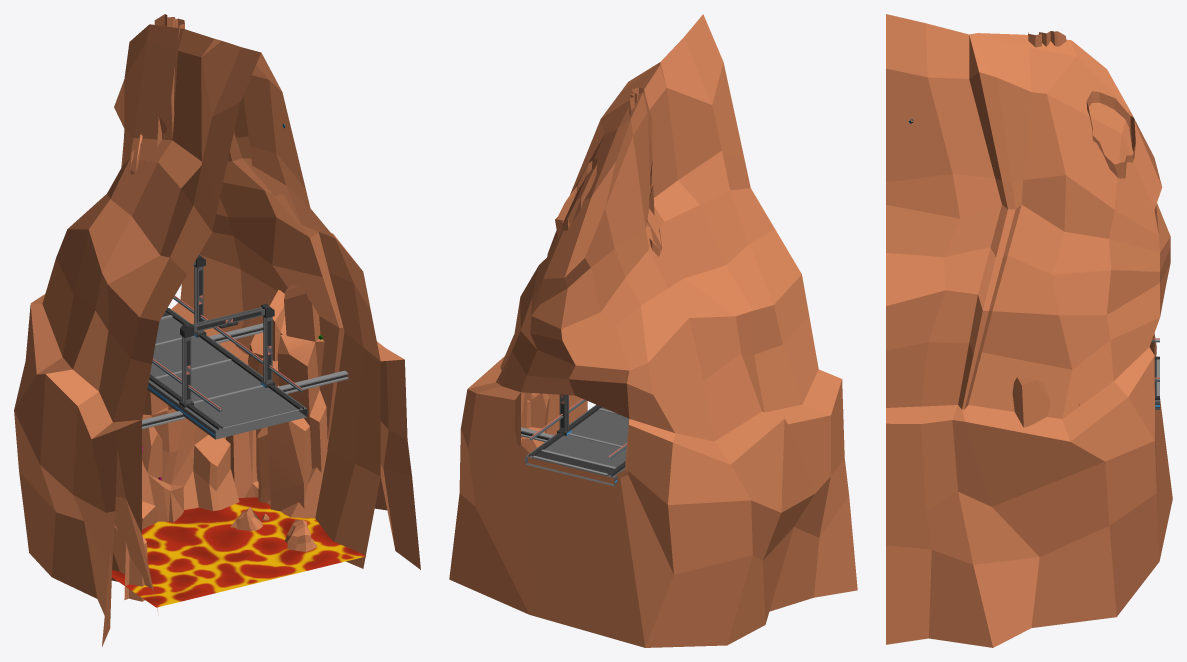
File: Cavern_Door_Tunnel.fbx
3 views of the same model, side by side, from view 1: azimuth 30°, elevation 25°; view 2: azimuth 150°, elevation 25°; view 3: azimuth 270°, elevation 25° (orthographic). The views are drawn at different scales.
Parts seen in each view (by area): view 1: Cavern_Door_Tunnel, Cavern_Door_Tunnel_W, Cavern_Door_Tunnel_E, Cavern_Door_Tunnel_Walkway; view 2: Cavern_Door_Tunnel, Cavern_Door_Tunnel_W, Cavern_Door_Tunnel_E, Cavern_Door_Tunnel_Walkway; view 3: Cavern_Door_Tunnel_E, Cavern_Door_Tunnel, Cavern_Door_Tunnel_W.
Boxes of the visible parts, x1,y1,x2,y2 form: Cavern_Door_Tunnel: (14, 255, 420, 646); Cavern_Door_Tunnel_W: (42, 14, 261, 422); Cavern_Door_Tunnel_E: (199, 53, 380, 360); Cavern_Door_Tunnel_Walkway: (142, 255, 348, 439); Cavern_Door_Tunnel: (449, 334, 857, 647); Cavern_Door_Tunnel_W: (561, 14, 818, 441); Cavern_Door_Tunnel_E: (496, 62, 659, 395); Cavern_Door_Tunnel_Walkway: (521, 394, 629, 486); Cavern_Door_Tunnel_E: (886, 14, 1170, 418); Cavern_Door_Tunnel: (886, 333, 1172, 647); Cavern_Door_Tunnel_W: (969, 31, 1161, 185).
Bounding box in the file's own units: 1902 × 2900 × 1360.
